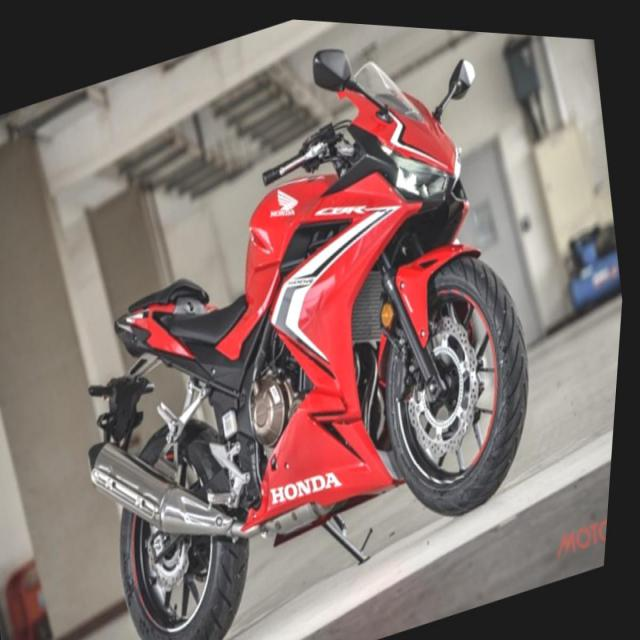CBR500R: (23, 2, 586, 640)
